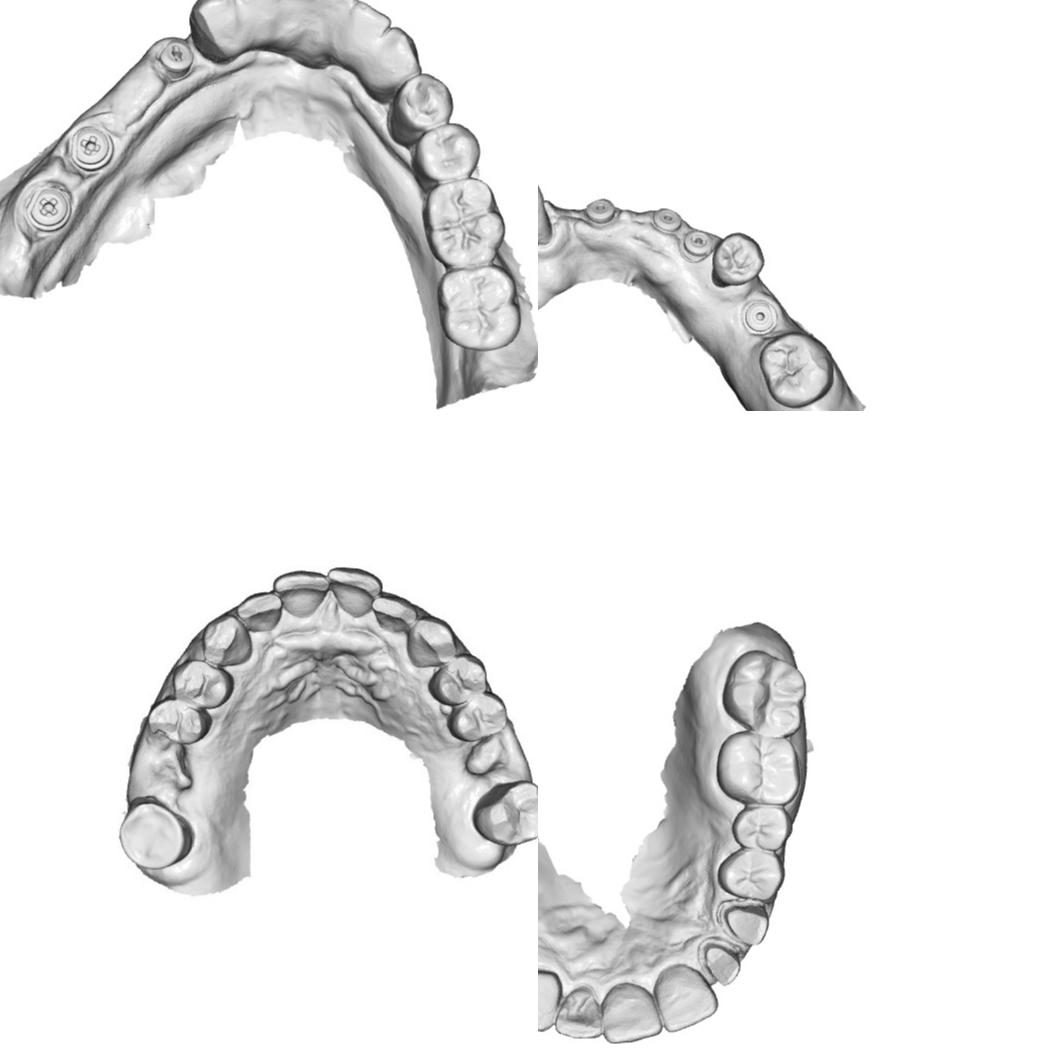canine: (370, 22, 424, 87), (191, 0, 242, 60), (197, 611, 251, 666), (409, 623, 452, 666), (538, 967, 561, 1034), (538, 173, 553, 246)
crown: (714, 900, 770, 951), (697, 938, 745, 988)
implant: (740, 298, 778, 336), (584, 197, 617, 228), (648, 206, 683, 234)
implant_minus: (160, 38, 200, 79), (677, 227, 714, 263)
implant_plus: (20, 183, 72, 231), (67, 122, 116, 168)
incisor: (654, 962, 719, 1034), (600, 979, 665, 1045), (552, 982, 604, 1040), (327, 567, 382, 616), (342, 0, 394, 50), (275, 572, 328, 618), (374, 595, 419, 636), (236, 0, 283, 39), (313, 0, 359, 36), (238, 594, 282, 631), (278, 0, 321, 28)
molar: (419, 178, 504, 270), (721, 648, 808, 736), (436, 266, 521, 352), (713, 730, 806, 806), (757, 332, 835, 408), (115, 798, 188, 867), (471, 777, 538, 852)
premolar: (410, 121, 480, 183), (391, 69, 456, 133), (714, 848, 786, 903), (709, 230, 766, 288), (728, 803, 793, 851), (172, 657, 230, 710), (452, 694, 513, 744), (429, 655, 488, 706), (149, 699, 210, 747)
